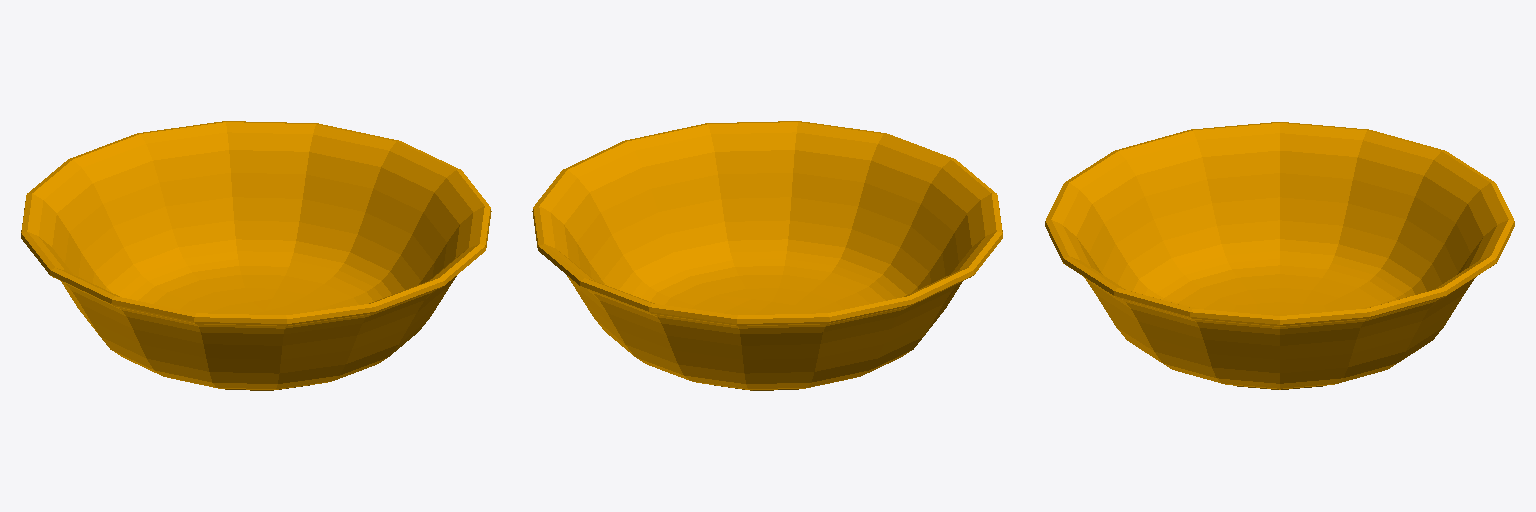
robot.urdf — plate:
<robot name="plate">
    <link name="plate">
        <visual>
            <geometry>
                <mesh filename="plate.stl" />
            </geometry>
        </visual>
        <collision>
            <geometry>
                <mesh filename="plate.stl"/>
            </geometry>
        </collision>
    </link>
</robot>

--- What the picture shows (computed from the rendered views, not written in the file) ---
3 views of the same robot in one strip: view 1: azimuth 30°, elevation 25°; view 2: azimuth 150°, elevation 25°; view 3: azimuth 270°, elevation 25° (orthographic).
Robot: plate — 1 links, 0 joints (none); root link plate; default pose: all joints at 0.
Links seen in each view (by area): view 1: plate; view 2: plate; view 3: plate.
Link boxes in pixels (x1,y1,x2,y2): plate: (21, 121, 491, 390); plate: (532, 121, 1002, 390); plate: (1045, 122, 1514, 389).
Bounding box of the posed robot: 0.2487 × 0.2487 × 0.0722 m (x, y, z).
Meshes: 1 distinct files referenced, 1 mesh visuals loaded (1 binary STL).